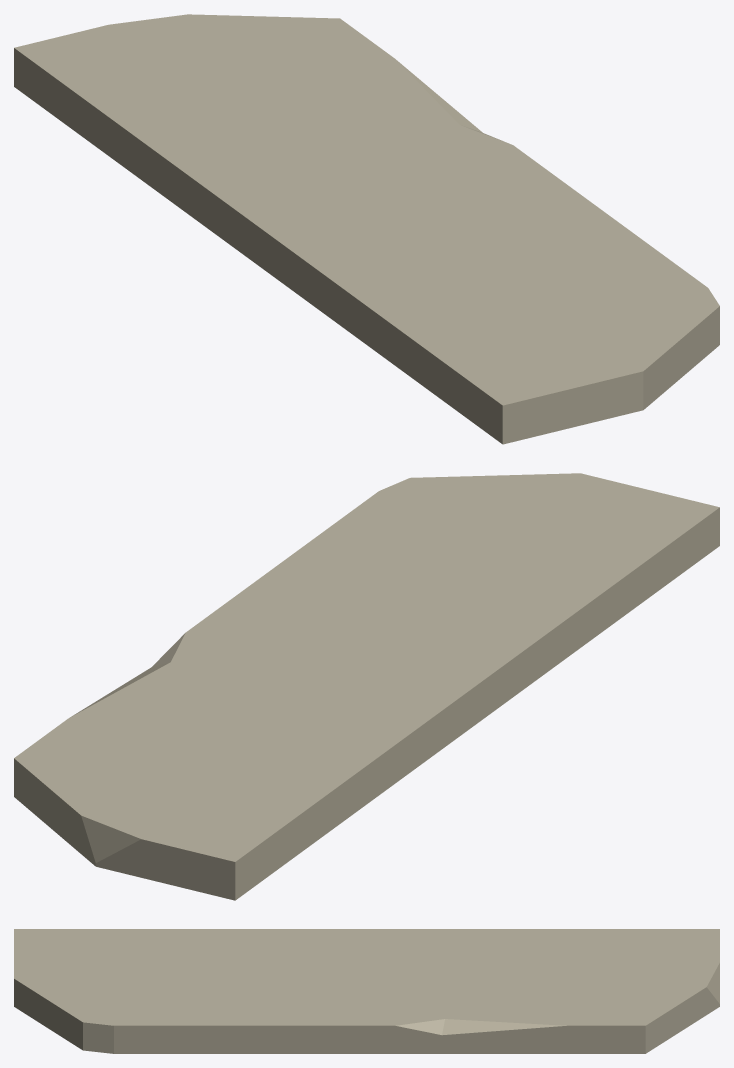
File: stair_1_2.fbx
The picture shows the model from 3 angles, top to bottom: view 1: azimuth 30°, elevation 25°; view 2: azimuth 150°, elevation 25°; view 3: azimuth 270°, elevation 25°; orthographic projection. The views are drawn at different scales.
Parts seen in each view (by area): view 1: stair_1_2; view 2: stair_1_2; view 3: stair_1_2.
Boxes of the visible parts, bbox=[...] form: stair_1_2: bbox=[14, 14, 719, 444]; stair_1_2: bbox=[14, 473, 719, 900]; stair_1_2: bbox=[14, 929, 719, 1053].
Bounding box in the file's own units: 2.02 × 0.2712 × 6.16.
